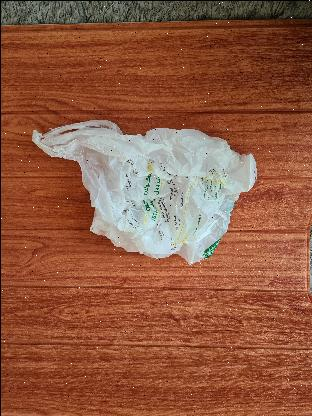Others: (29, 119, 257, 266)
